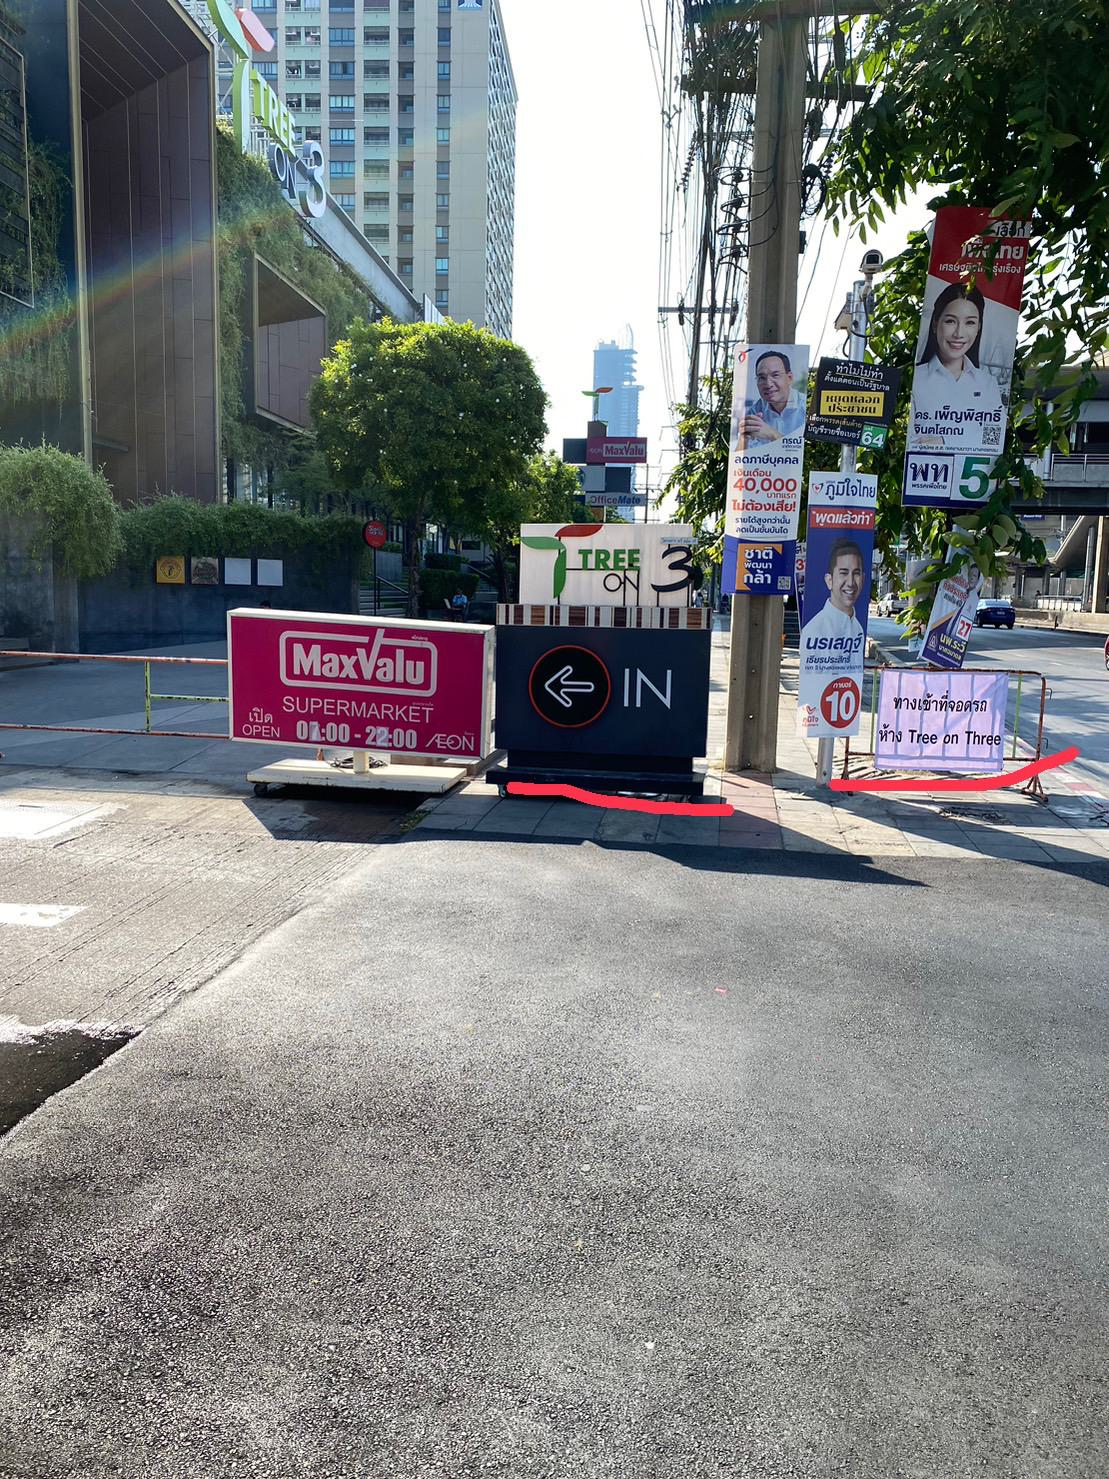Banner: (799, 457, 891, 746)
